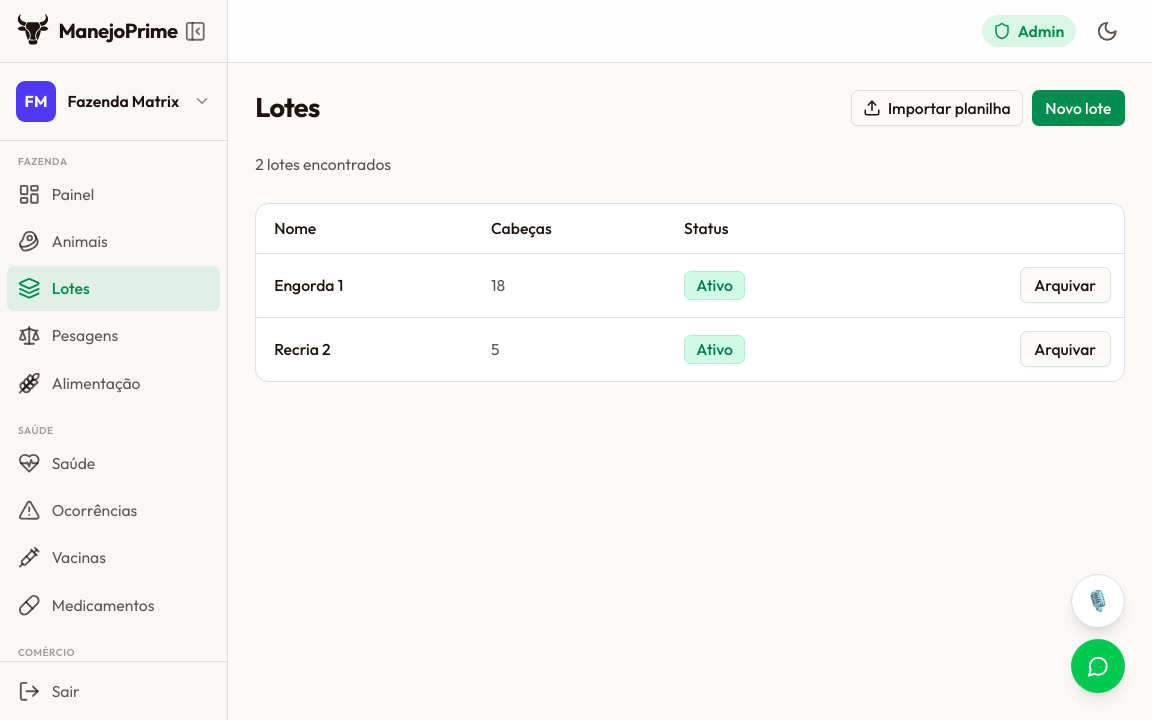
Test: lots management page › create dialog submits POST /api/v1/lots and shows new lot
The image size is (1152, 720).
Expected: the text "Engorda 1" is shown, [256,253,478,317]
Click the button "Novo lote" at (1078, 108), box [1032,90,1125,126]
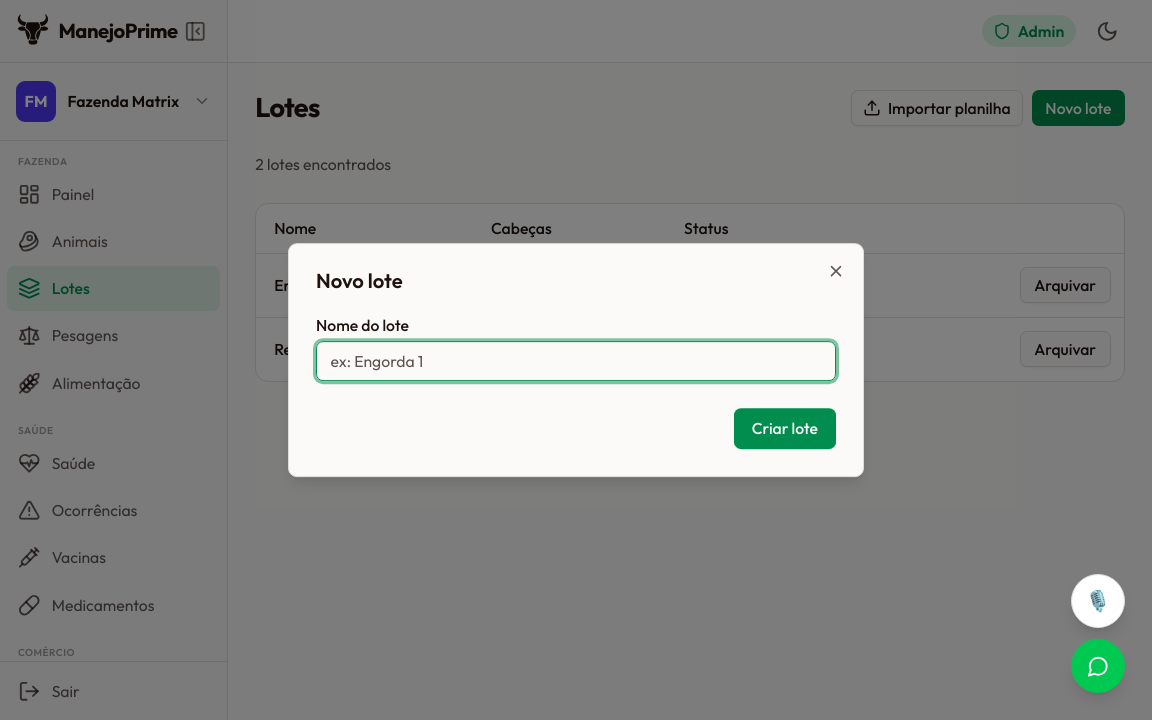
Expected: the dialog is shown, [288,243,864,477]
Type "Cria 3" into the field labelled "Nome do lote" at (576, 361), box [316,341,836,381]
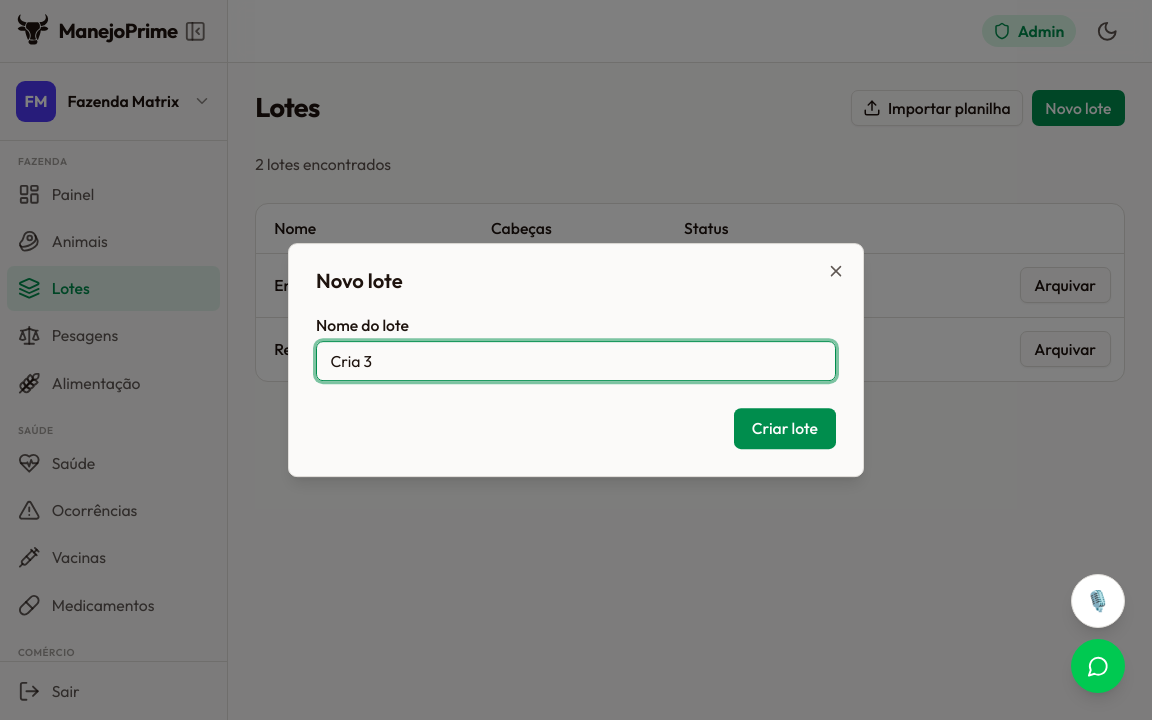
Click the button "Criar lote" at (785, 429), box [734,408,836,449]
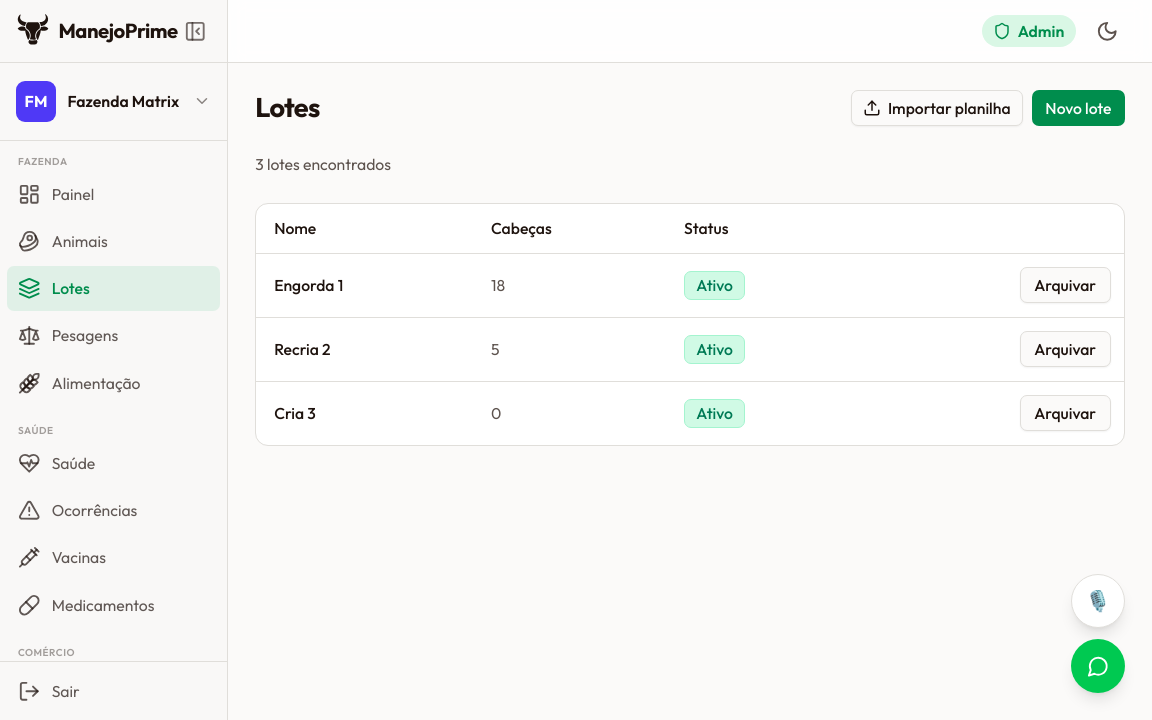
Expected: the text "Cria 3" is shown, [256,381,478,444]
